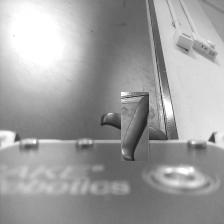Door Handle: (110, 101, 160, 151)
